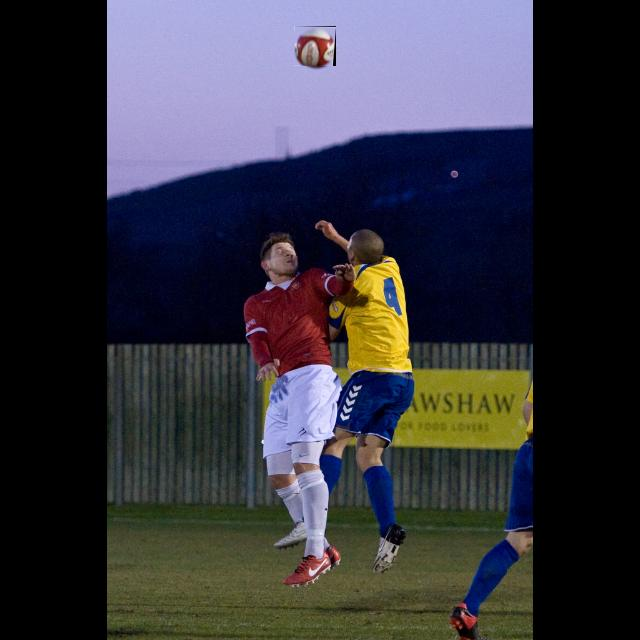Football: (294, 26, 336, 66)
